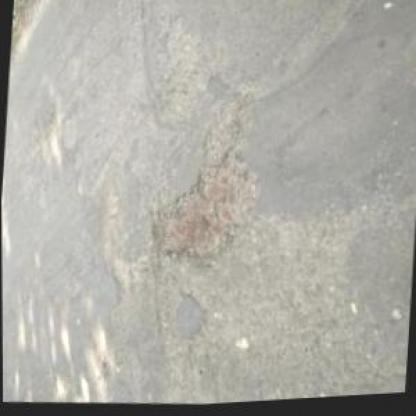pothole: (144, 147, 261, 275)
